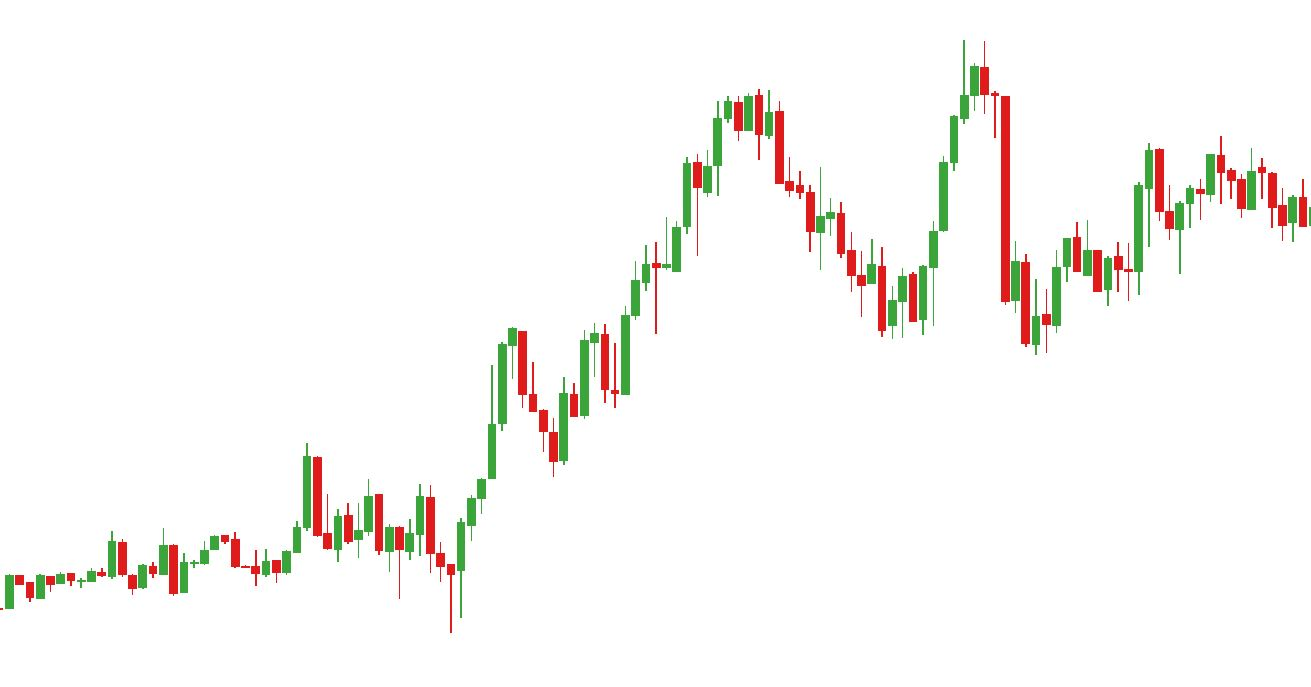buy: (393, 510, 457, 633)
sell: (754, 41, 969, 193)
